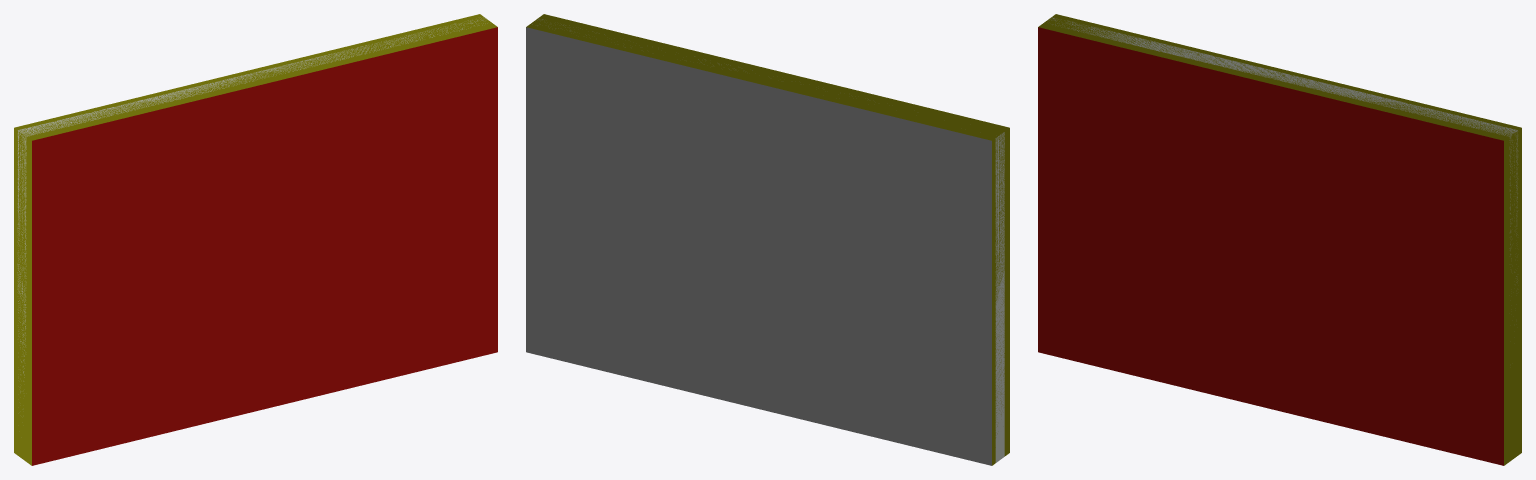
The model's file is idf.obj.
The picture shows the model from 3 angles, left to right: view 1: azimuth 30°, elevation 25°; view 2: azimuth 150°, elevation 25°; view 3: azimuth 330°, elevation 25°; orthographic projection.
Bounding box in the file's own units: 45.72 × 30.48 × 3.05.
